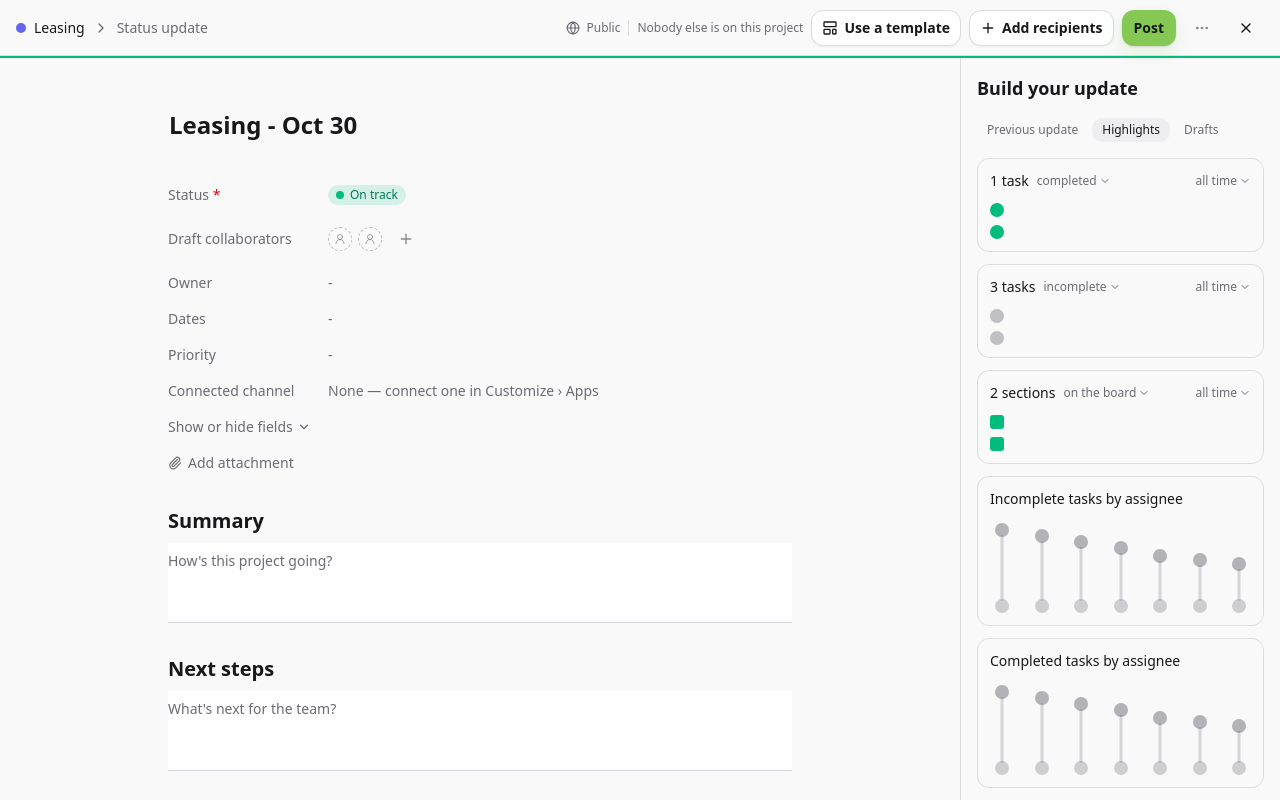
Test: StatusUpdateComposer › says where templates come from when the project has none
The image size is (1280, 800).
Click the button "Use a template": x=886, y=28 [811,10,961,46]
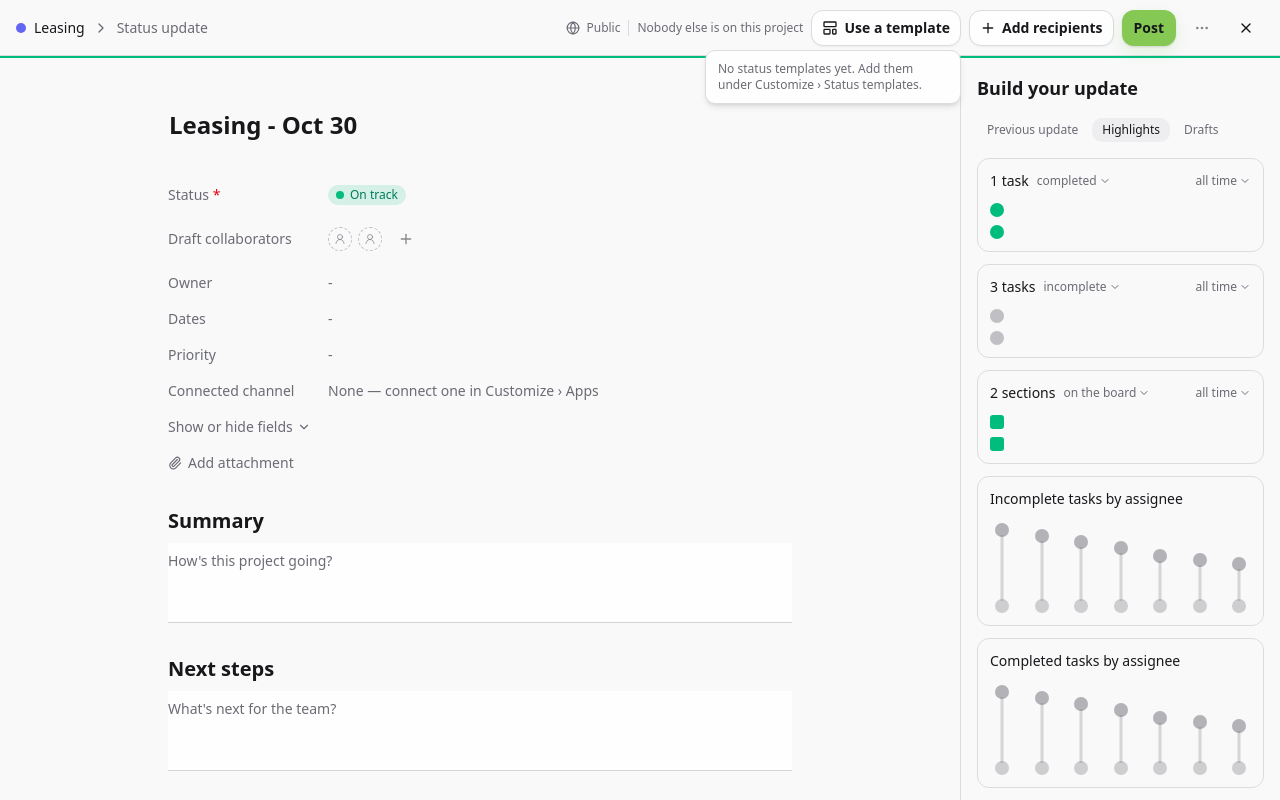
Now the text "Customize › Status templates" is shown, box [718,60,922,93]
